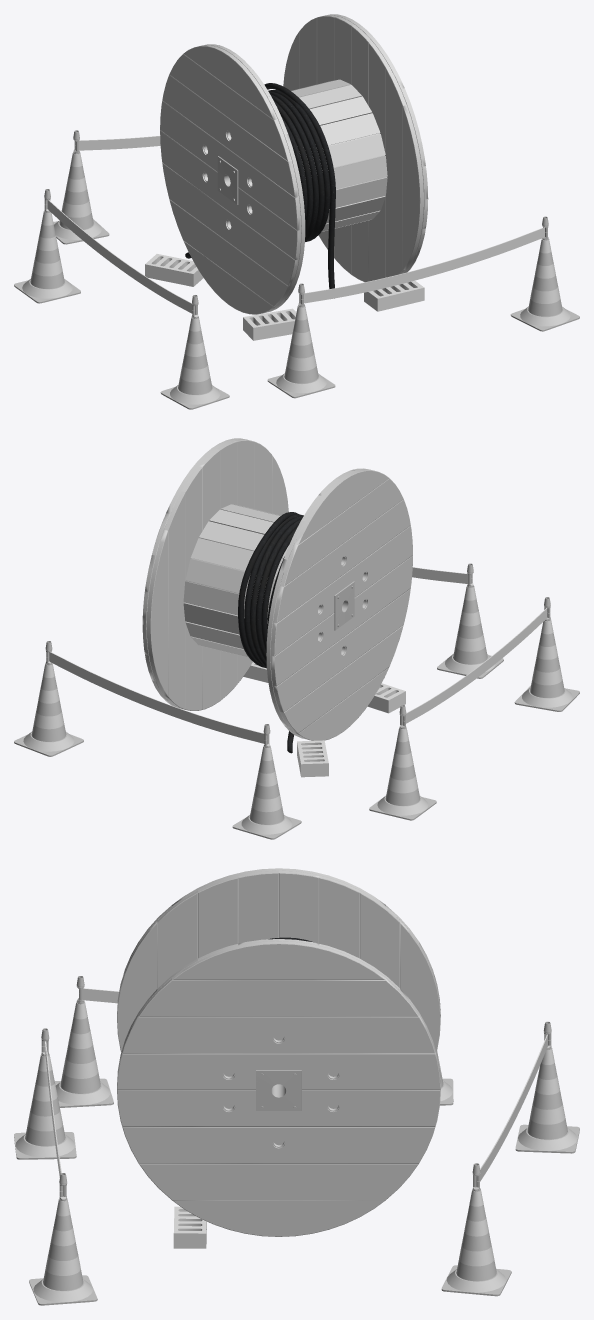
The model's file is KB3D_CTS_BldgSM_T.fbx.
3 views of the same model, one above another, from view 1: azimuth 30°, elevation 25°; view 2: azimuth 150°, elevation 25°; view 3: azimuth 270°, elevation 25° (orthographic). The views are drawn at different scales.
Visible parts, largest first — view 1: KB3D_CTS_BldgSM_T_CableRoll, KB3D_CTS_BldgSM_T_RoadCone, KB3D_CTS_BldgSM_T_Bricks; view 2: KB3D_CTS_BldgSM_T_CableRoll, KB3D_CTS_BldgSM_T_RoadCone, KB3D_CTS_BldgSM_T_Bricks; view 3: KB3D_CTS_BldgSM_T_CableRoll, KB3D_CTS_BldgSM_T_RoadCone, KB3D_CTS_BldgSM_T_Bricks.
Part boxes in pixels (<box>): KB3D_CTS_BldgSM_T_CableRoll: <box>160,14,428,314</box>; KB3D_CTS_BldgSM_T_RoadCone: <box>14,130,579,409</box>; KB3D_CTS_BldgSM_T_Bricks: <box>145,254,424,340</box>; KB3D_CTS_BldgSM_T_CableRoll: <box>142,438,412,753</box>; KB3D_CTS_BldgSM_T_RoadCone: <box>14,563,579,839</box>; KB3D_CTS_BldgSM_T_Bricks: <box>243,662,405,777</box>; KB3D_CTS_BldgSM_T_CableRoll: <box>117,868,440,1236</box>; KB3D_CTS_BldgSM_T_RoadCone: <box>14,976,579,1305</box>; KB3D_CTS_BldgSM_T_Bricks: <box>173,1206,206,1248</box>.
Size of the model in its own units: 221 by 134 by 235.
